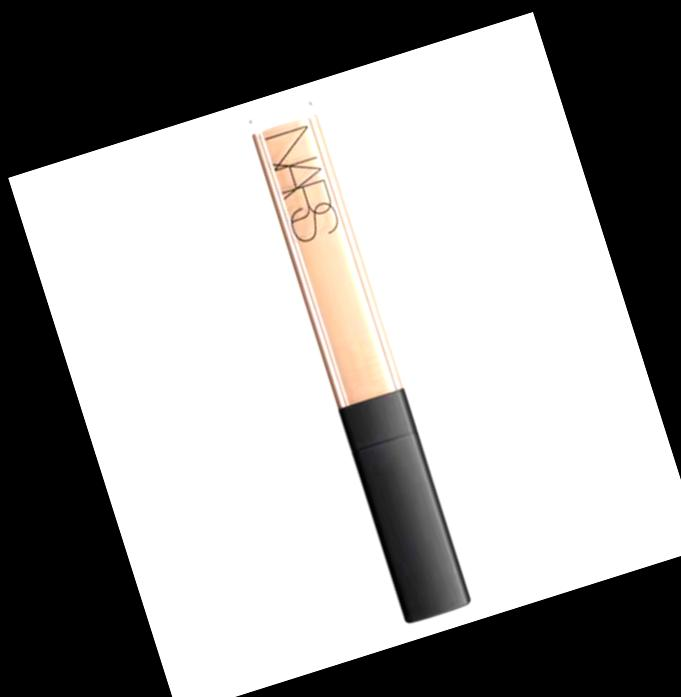cosmetic: (242, 96, 471, 624)
